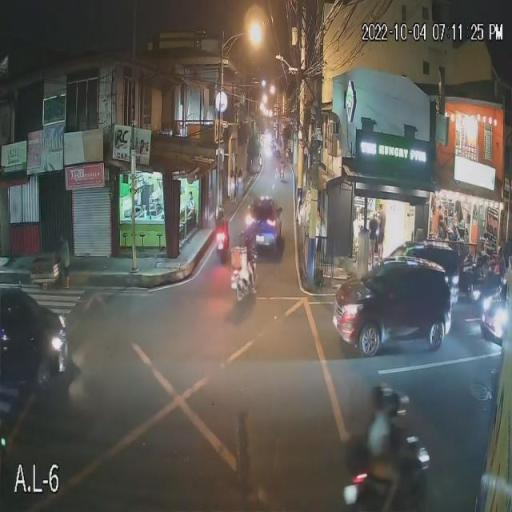helmet: (364, 380, 393, 411), (392, 391, 412, 416), (235, 231, 252, 248)
motorcycle: (331, 426, 445, 512), (225, 250, 262, 306)
rider: (369, 408, 399, 510), (387, 415, 423, 500), (236, 245, 254, 295)
